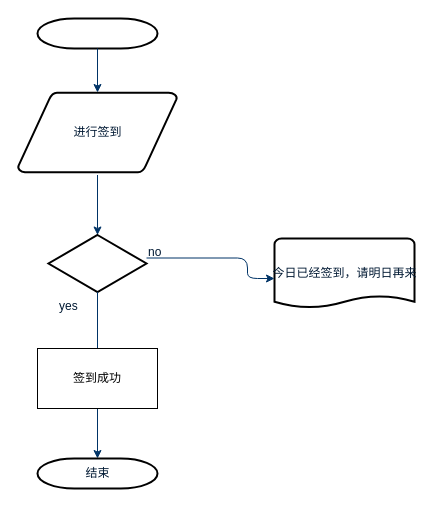
Some shapes in this 434 by 506 pixel diagram are drawn without their labels. The box of each missing label's shape, as (x1, y1, x2, y2) in pixels:
开始: (36, 17, 158, 49)
签到结果: (47, 234, 147, 292)
